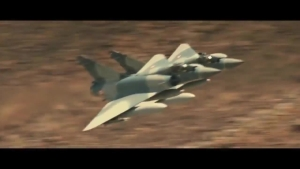flight: (74, 54, 224, 132), (109, 42, 245, 101)
